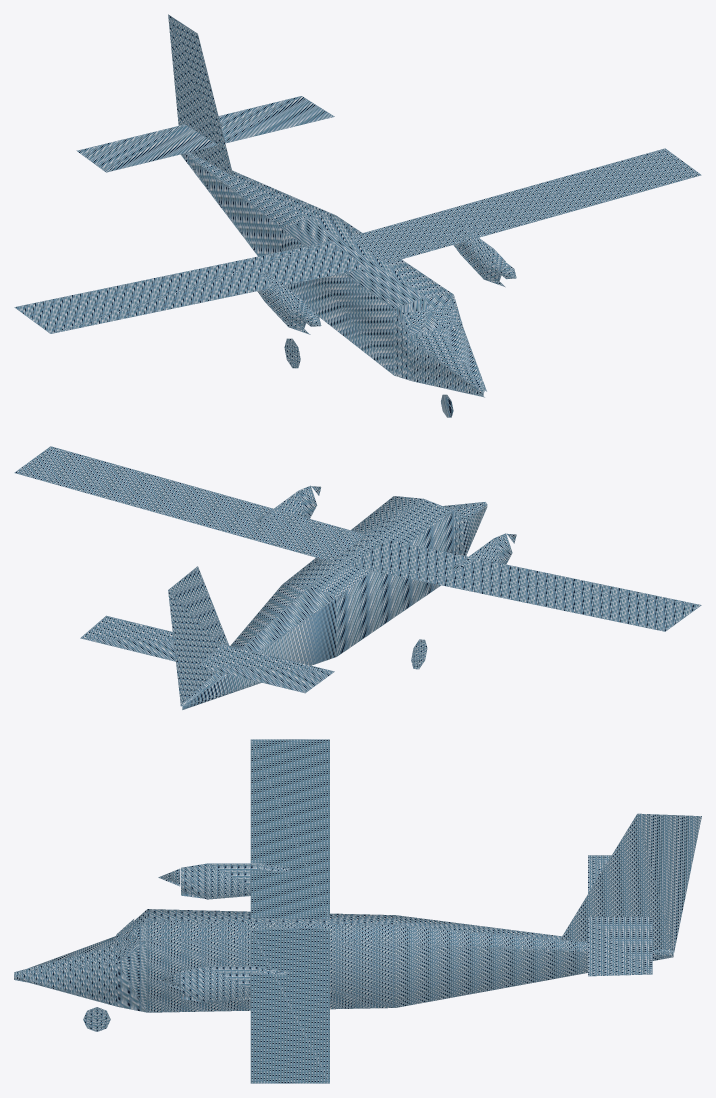
The model's file is HTAI de Havilland DHC6 MSFS_LOD1.gltf.
3 renders of one model, top to bottom at view 1: azimuth 30°, elevation 25°; view 2: azimuth 150°, elevation 25°; view 3: azimuth 270°, elevation 25°, orthographic. The views are drawn at different scales.
Parts seen in each view (by area): view 1: node1; view 2: node1; view 3: node1.
Part boxes in pixels (x1=…): node1: x1=14, y1=14, x2=701, y2=417; node1: x1=14, y1=446, x2=701, y2=709; node1: x1=14, y1=739, x2=701, y2=1083.
Bounding box in the file's own units: 18.8 × 5.61 × 15.87.
